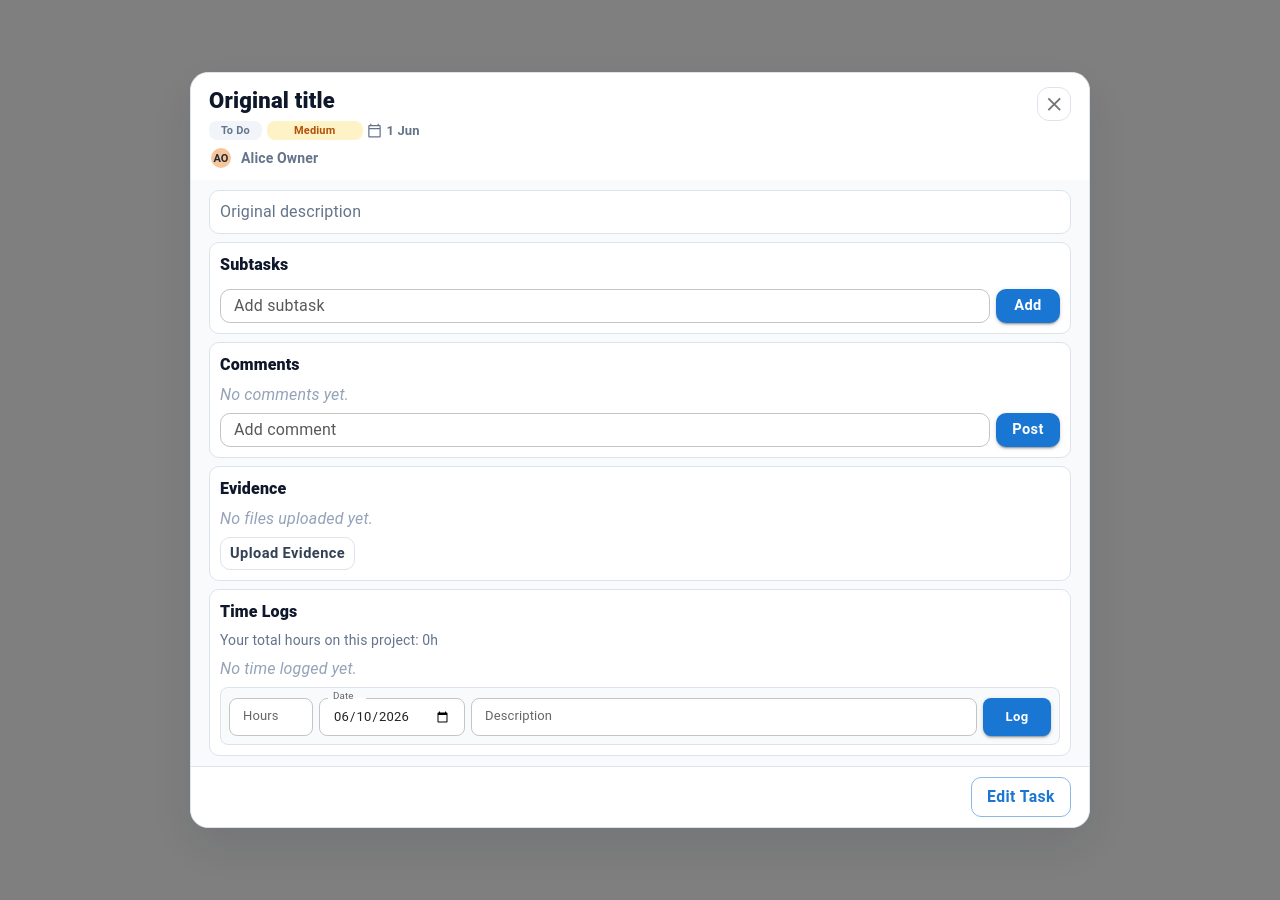
Test: TaskDetailModal task metadata › shows priority, due date, and assignee controls in owner edit mode
This screenshot has width=1280, height=900.
Click the button "Edit Task": (1021,797) [971,777,1071,817]
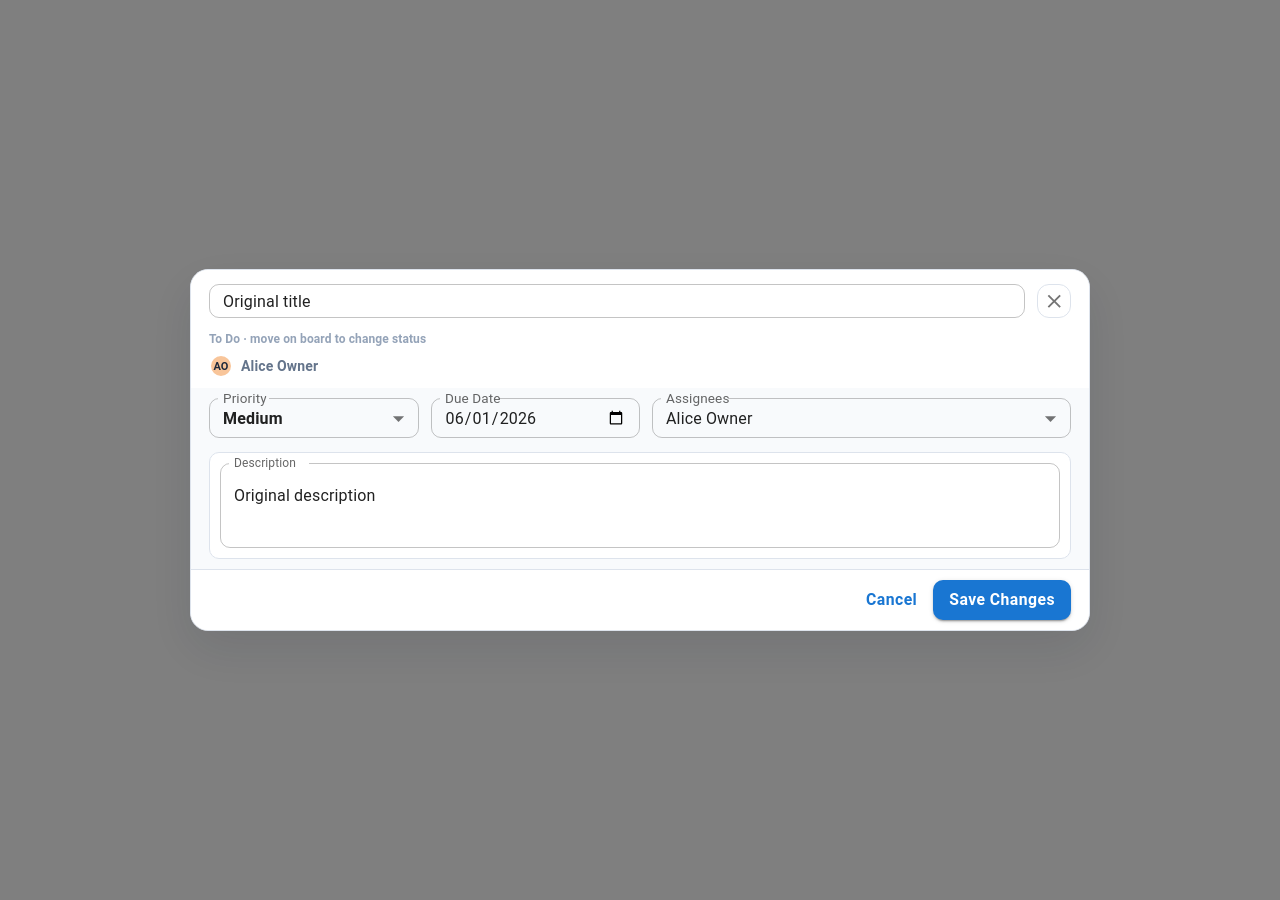
Expected: the date field labelled "Due Date" is shown, [430,398,640,438]
Now the dropdown named "assignees" is shown, box [666,409,752,428]
